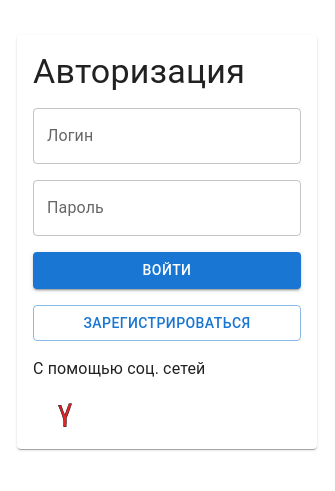
LoginPage › отображение ошибки при невалидных значениях
In the field labelled "Логин": (167, 136) [33, 108, 301, 164], type "ad"
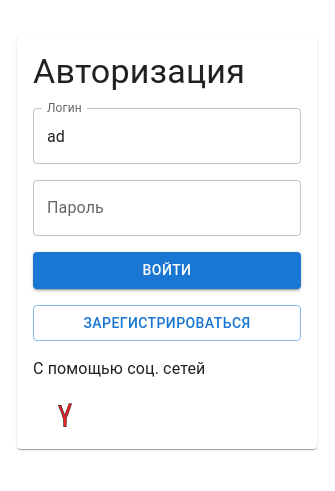
In the password field labelled "Пароль": (167, 208) [33, 180, 301, 236], type "111"
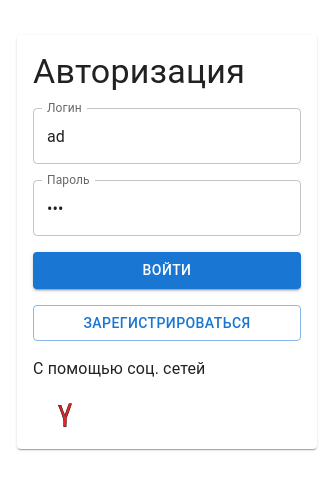
Click the button "Войти": (167, 271) [33, 252, 301, 289]
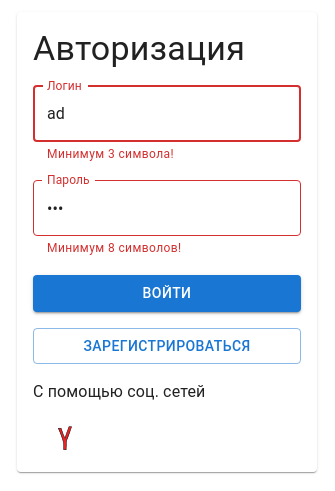
Expected: the text "Минимум 3 символа!" is shown, [47, 147, 174, 161]
Expected: the text "Минимум 8 символов!" is shown, [47, 242, 182, 256]
